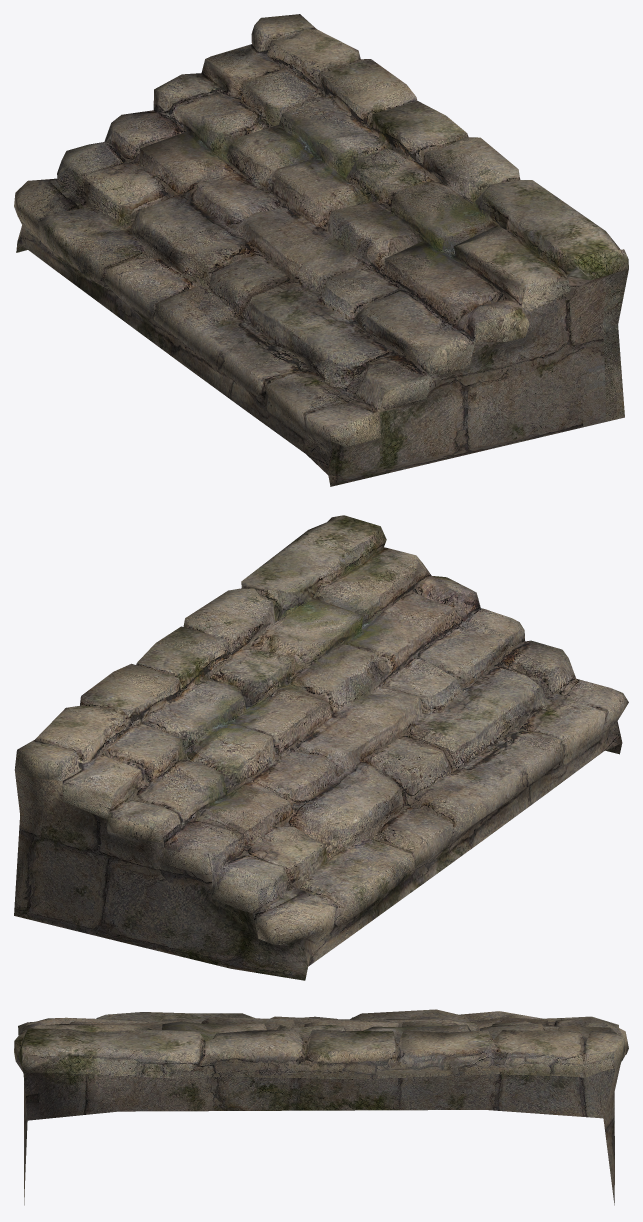
Rendered from Stairs8.fbx.
3 renders of one model, top to bottom at view 1: azimuth 30°, elevation 25°; view 2: azimuth 150°, elevation 25°; view 3: azimuth 270°, elevation 25°, orthographic. The views are drawn at different scales.
Visible parts, largest first — view 1: LV_Campagna_City_WallStair01_SM_EYE; view 2: LV_Campagna_City_WallStair01_SM_EYE; view 3: LV_Campagna_City_WallStair01_SM_EYE.
Part boxes in pixels (<box>): LV_Campagna_City_WallStair01_SM_EYE: <box>14,14,628,486</box>; LV_Campagna_City_WallStair01_SM_EYE: <box>14,515,628,980</box>; LV_Campagna_City_WallStair01_SM_EYE: <box>14,1009,628,1205</box>.
Bounding box in the file's own units: 0.9572 × 0.512 × 1.79.
1 material, 1 textured.
